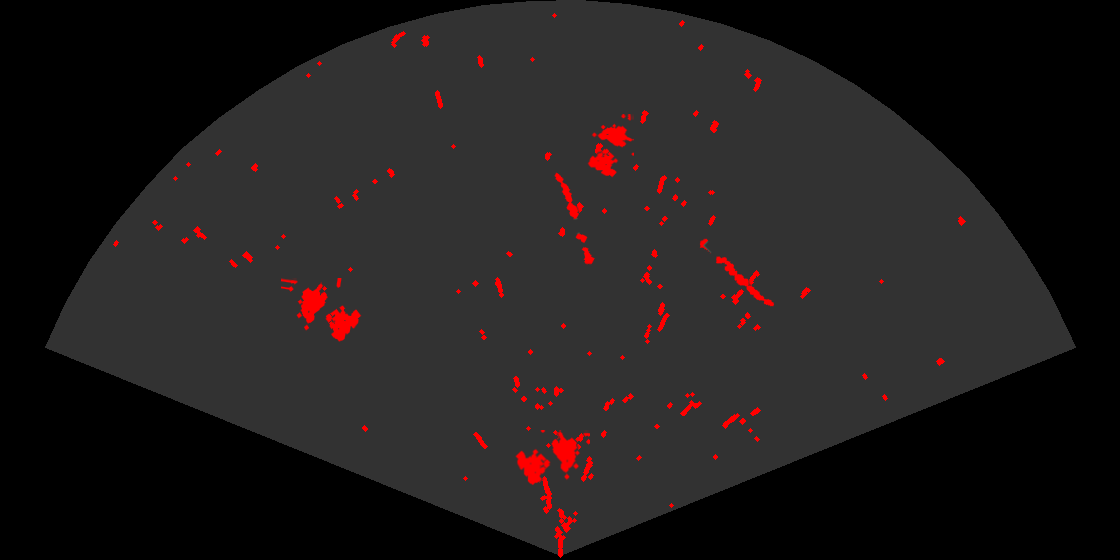cage: (281, 278, 363, 343), (514, 430, 590, 487), (586, 114, 634, 179)
chain: (698, 237, 776, 308), (553, 171, 596, 267)
